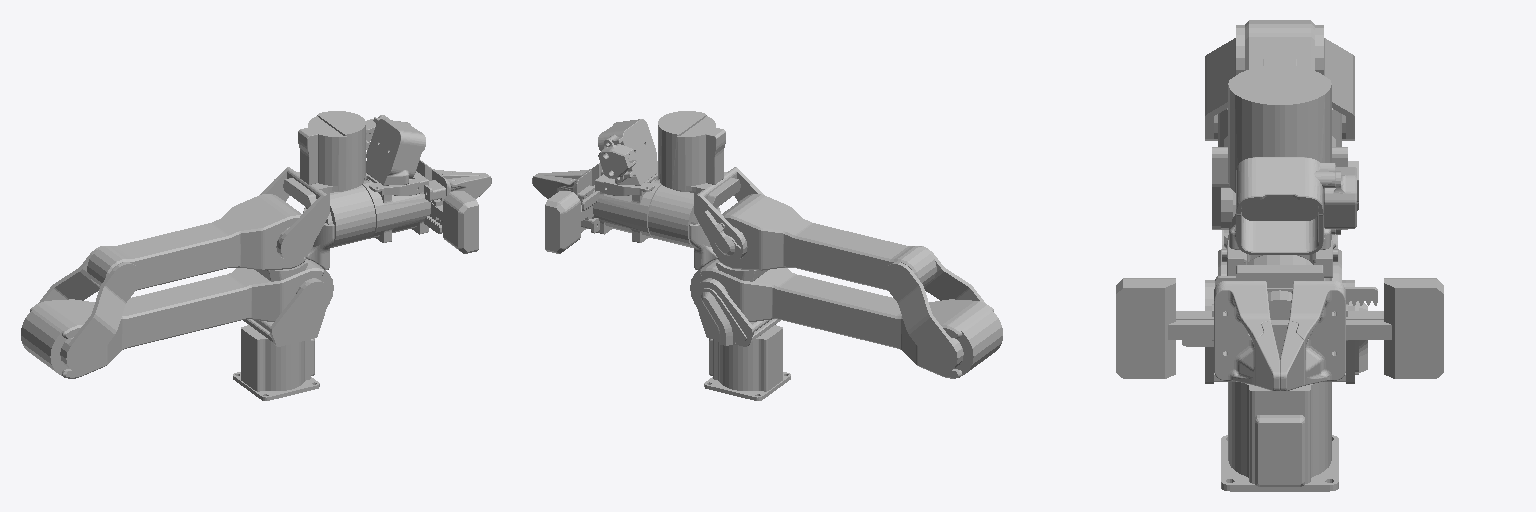
robot.urdf — wxai:
<?xml version="1.0" ?>
<robot name="wxai">
  <link name="base_link">
    <inertial>
      <origin rpy="0 0 0" xyz="-0.00014175 -0.00005228 0.03175177"/>
      <mass value="0.45969858"/>
      <inertia ixx="0.00041660" ixy="0.00000011" ixz="-0.00000454" iyy="0.00044896" iyz="-0.00000078" izz="0.00021403"/>
    </inertial>
    <visual>
      <origin rpy="0 0 0" xyz="0 0 0"/>
      <geometry>
        <mesh filename="meshes/base_link.stl"/>
      </geometry>
      <material name="">
        <color rgba="0.752941176470588 0.752941176470588 0.752941176470588 1"/>
      </material>
    </visual>
    <collision>
      <origin rpy="0 0 0" xyz="0 0 0"/>
      <geometry>
        <mesh filename="meshes/base_link.stl"/>
      </geometry>
    </collision>
  </link>
  <link name="link_1">
    <inertial>
      <origin rpy="0 0 0" xyz="-0.00011075 0.00171176 0.02044592"/>
      <mass value="0.15270428"/>
      <inertia ixx="0.00018509" ixy="-0.00000191" ixz="-0.00001436" iyy="0.00008358" iyz="-0.00000130" izz="0.00019219"/>
    </inertial>
    <visual>
      <origin rpy="0 0 0" xyz="0 0 0"/>
      <geometry>
        <mesh filename="meshes/link_1.stl"/>
      </geometry>
      <material name="">
        <color rgba="0.752941176470588 0.752941176470588 0.752941176470588 1"/>
      </material>
    </visual>
    <collision>
      <origin rpy="0 0 0" xyz="0 0 0"/>
      <geometry>
        <mesh filename="meshes/link_1.stl"/>
      </geometry>
    </collision>
  </link>
  <joint name="joint_0" type="revolute">
    <origin rpy="0 0 0" xyz="0 0 0.05725"/>
    <parent link="base_link"/>
    <child link="link_1"/>
    <axis xyz="0 0 1"/>
    <limit effort="27.0" lower="-3.0543261909900767" upper="3.0543261909900767" velocity="3.141592653589793"/>
  </joint>
  <link name="link_2">
    <inertial>
      <origin rpy="0 0 0" xyz="-0.13121451 -0.00292583 0.00021345"/>
      <mass value="1.15316319"/>
      <inertia ixx="0.00102632" ixy="-0.00000319" ixz="-0.00002679" iyy="0.01736118" iyz="-0.00000193" izz="0.01794489"/>
    </inertial>
    <visual>
      <origin rpy="0 0 0" xyz="0 0 0"/>
      <geometry>
        <mesh filename="meshes/link_2.stl"/>
      </geometry>
      <material name="">
        <color rgba="0.752941176470588 0.752941176470588 0.752941176470588 1"/>
      </material>
    </visual>
    <collision>
      <origin rpy="0 0 0" xyz="0 0 0"/>
      <geometry>
        <mesh filename="meshes/link_2.stl"/>
      </geometry>
    </collision>
  </link>
  <joint name="joint_1" type="revolute">
    <origin rpy="0 0 0" xyz="0.02 0 0.04625"/>
    <parent link="link_1"/>
    <child link="link_2"/>
    <axis xyz="0 1 0"/>
    <limit effort="27.0" lower="0.0" upper="3.141592653589793" velocity="3.141592653589793"/>
  </joint>
  <link name="link_3">
    <inertial>
      <origin rpy="0 0 0" xyz="0.18083602 -0.00094090 0.05554937"/>
      <mass value="0.68666638"/>
      <inertia ixx="0.00064876" ixy="0.00009128" ixz="-0.00052002" iyy="0.00547407" iyz="0.00001159" izz="0.00561509"/>
    </inertial>
    <visual>
      <origin rpy="0 0 0" xyz="0 0 0"/>
      <geometry>
        <mesh filename="meshes/link_3.stl"/>
      </geometry>
      <material name="">
        <color rgba="0.752941176470588 0.752941176470588 0.752941176470588 1"/>
      </material>
    </visual>
    <collision>
      <origin rpy="0 0 0" xyz="0 0 0"/>
      <geometry>
        <mesh filename="meshes/link_3.stl"/>
      </geometry>
    </collision>
  </link>
  <joint name="joint_2" type="revolute">
    <origin rpy="0 0 0" xyz="-0.264 0 0"/>
    <parent link="link_2"/>
    <child link="link_3"/>
    <axis xyz="0 -1 0"/>
    <limit effort="27.0" lower="-3.141592653589793" upper="2.356194490192345" velocity="3.141592653589793"/>
  </joint>
  <link name="link_4">
    <inertial>
      <origin rpy="0 0 0" xyz="0.05797842 0.00027145 0.05884447"/>
      <mass value="0.45789905"/>
      <inertia ixx="0.00053839" ixy="0.00000690" ixz="-0.00018164" iyy="0.00066138" iyz="0.00000724" izz="0.00042116"/>
    </inertial>
    <visual>
      <origin rpy="0 0 0" xyz="0 0 0"/>
      <geometry>
        <mesh filename="meshes/link_4.stl"/>
      </geometry>
      <material name="">
        <color rgba="0.752941176470588 0.752941176470588 0.752941176470588 1"/>
      </material>
    </visual>
    <collision>
      <origin rpy="0 0 0" xyz="0 0 0"/>
      <geometry>
        <mesh filename="meshes/link_4.stl"/>
      </geometry>
    </collision>
  </link>
  <joint name="joint_3" type="revolute">
    <origin rpy="0 0 0" xyz="0.245 0 0.06"/>
    <parent link="link_3"/>
    <child link="link_4"/>
    <axis xyz="0 -1 0"/>
    <limit effort="7.0" lower="-1.5707963267948966" upper="1.5707963267948966" velocity="3.141592653589793"/>
  </joint>
  <link name="link_5">
    <inertial>
      <origin rpy="0 0 0" xyz="0.00412447 -0.00001138 -0.04283184"/>
      <mass value="0.36693910"/>
      <inertia ixx="0.00018912" ixy="-0.00000045" ixz="0.00000090" iyy="0.00032062" iyz="0.00000003" izz="0.00026750"/>
    </inertial>
    <visual>
      <origin rpy="0 0 0" xyz="0 0 0"/>
      <geometry>
        <mesh filename="meshes/link_5.stl"/>
      </geometry>
      <material name="">
        <color rgba="0.752941176470588 0.752941176470588 0.752941176470588 1"/>
      </material>
    </visual>
    <collision>
      <origin rpy="0 0 0" xyz="0 0 0"/>
      <geometry>
        <mesh filename="meshes/link_5.stl"/>
      </geometry>
    </collision>
  </link>
  <joint name="joint_4" type="revolute">
    <origin rpy="0 0 0" xyz="0.06775 0 0.0455"/>
    <parent link="link_4"/>
    <child link="link_5"/>
    <axis xyz="0 0 -1"/>
    <limit effort="7.0" lower="-1.5707963267948966" upper="1.5707963267948966" velocity="3.141592653589793"/>
  </joint>
  <link name="link_6">
    <inertial>
      <origin rpy="0 0 0" xyz="0.04572768 -0.00000726 0.00001402"/>
      <mass value="0.55469347"/>
      <inertia ixx="0.00082429" ixy="-0.00000051" ixz="0.00000010" iyy="0.00048759" iyz="0.00000004" izz="0.00108600"/>
    </inertial>
    <visual>
      <origin rpy="0 0 0" xyz="0 0 0"/>
      <geometry>
        <mesh filename="meshes/link_6.stl"/>
      </geometry>
      <material name="">
        <color rgba="0.752941176470588 0.752941176470588 0.752941176470588 1"/>
      </material>
    </visual>
    <collision>
      <origin rpy="0 0 0" xyz="0 0 0"/>
      <geometry>
        <mesh filename="meshes/link_6.stl"/>
      </geometry>
    </collision>
  </link>
  <joint name="joint_5" type="revolute">
    <origin rpy="0 0 0" xyz="0.02895 0 -0.0455"/>
    <parent link="link_5"/>
    <child link="link_6"/>
    <axis xyz="1 0 0"/>
    <limit effort="7.0" lower="-3.141592653589793" upper="3.141592653589793" velocity="3.141592653589793"/>
  </joint>
  <link name="carriage_right">
    <inertial>
      <origin rpy="0 0 0" xyz="0.00889602 0.00403514 0.00457901"/>
      <mass value="0.05036313"/>
      <inertia ixx="0.00001736" ixy="-0.00000165" ixz="-0.00000104" iyy="0.00000591" iyz="-0.00000172" izz="0.00001378"/>
    </inertial>
    <visual>
      <origin rpy="0 0 0" xyz="0 0 0"/>
      <geometry>
        <mesh filename="meshes/carriage_right.stl"/>
      </geometry>
      <material name="">
        <color rgba="0.752941176470588 0.752941176470588 0.752941176470588 1"/>
      </material>
    </visual>
    <collision>
      <origin rpy="0 0 0" xyz="0 0 0"/>
      <geometry>
        <mesh filename="meshes/carriage_right.stl"/>
      </geometry>
    </collision>
  </link>
  <joint name="right_carriage_joint" type="prismatic">
    <origin rpy="0 0 0" xyz="0.0745 -0.023 0"/>
    <parent link="link_6"/>
    <child link="carriage_right"/>
    <axis xyz="0 -1 0"/>
    <limit effort="400.0" lower="0.0" upper="0.044" velocity="0.0875"/>
  </joint>
  <link name="carriage_left">
    <inertial>
      <origin rpy="0 0 0" xyz="0.00889602 -0.00403515 -0.00457908"/>
      <mass value="0.05036313"/>
      <inertia ixx="0.00001736" ixy="-0.00000165" ixz="-0.00000104" iyy="0.00000591" iyz="-0.00000172" izz="0.00001378"/>
    </inertial>
    <visual>
      <origin rpy="0 0 0" xyz="0 0 0"/>
      <geometry>
        <mesh filename="meshes/carriage_left.stl"/>
      </geometry>
      <material name="">
        <color rgba="0.752941176470588 0.752941176470588 0.752941176470588 1"/>
      </material>
    </visual>
    <collision>
      <origin rpy="0 0 0" xyz="0 0 0"/>
      <geometry>
        <mesh filename="meshes/carriage_left.stl"/>
      </geometry>
    </collision>
  </link>
  <joint name="left_carriage_joint" type="prismatic">
    <origin rpy="0 0 0" xyz="0.0745 0.023 0"/>
    <parent link="link_6"/>
    <child link="carriage_left"/>
    <axis xyz="0 1 0"/>
    <limit effort="400.0" lower="0.0" upper="0.044" velocity="0.0875"/>
  </joint>
  <link name="camera_mount_d405">
    <inertial>
      <origin rpy="0 0 0" xyz="0.03023383 0.00679835 0.05006687"/>
      <mass value="0.04518012"/>
      <inertia ixx="0.00003426" ixy="-0.00000027" ixz="-0.00000309" iyy="0.00001980" iyz="-0.00000319" izz="0.00002470"/>
    </inertial>
    <visual>
      <origin rpy="0 0 0" xyz="0 0 0"/>
      <geometry>
        <mesh filename="meshes/camera_mount_d405.stl"/>
      </geometry>
      <material name="">
        <color rgba="0.752941176470588 0.752941176470588 0.752941176470588 1"/>
      </material>
    </visual>
    <collision>
      <origin rpy="0 0 0" xyz="0 0 0"/>
      <geometry>
        <mesh filename="meshes/camera_mount_d405.stl"/>
      </geometry>
    </collision>
  </link>
  <joint name="cam_mount_joint" type="fixed">
    <origin rpy="0 0 0" xyz="0 0 0"/>
    <parent link="link_6"/>
    <child link="camera_mount_d405"/>
    <axis xyz="0 0 0"/>
  </joint>
  <joint name="cam_joint" type="fixed">
    <origin rpy="0 0.3490658503988659 0" xyz="0.02927207801 0 0.03824951197"/>
    <parent link="camera_mount_d405"/>
    <child link="cam_bottom_screw_frame"/>
  </joint>
  <link name="cam_bottom_screw_frame"/>
  <joint name="cam_link_joint" type="fixed">
    <origin rpy="0 0 0" xyz="0.01085 0.009 0.021"/>
    <parent link="cam_bottom_screw_frame"/>
    <child link="cam_link"/>
  </joint>
  <link name="cam_link">
    <visual>
      <origin rpy="1.5707963267948966 0 1.5707963267948966" xyz="0.0038 -0.009 0"/>
      <geometry>
        <mesh filename="package://trossen_arm_description/meshes/peripherals/d405.stl" scale="0.001 0.001 0.001"/>
      </geometry>
      <material name="aluminum">
        <color rgba="0.5 0.5 0.5 1"/>
      </material>
    </visual>
    <collision>
      <origin rpy="0 0 0" xyz="-0.0078 -0.009 0"/>
      <geometry>
        <box size="0.023 0.042 0.042"/>
      </geometry>
    </collision>
    <inertial>
      <mass value="0.072"/>
      <origin xyz="0 0 0"/>
      <inertia ixx="0.00002117" ixy="0.0" ixz="0.0" iyy="0.000013758" iyz="0.0" izz="0.000013758"/>
    </inertial>
  </link>
  <link name="gripper_left">
    <inertial>
      <origin rpy="0 0 0" xyz="0.01893993 -0.00901223 -0.00215453"/>
      <mass value="0.03090787"/>
      <inertia ixx="0.00000769" ixy="0.00000321" ixz="0.00000029" iyy="0.00001487" iyz="-0.00000020" izz="0.00001184"/>
    </inertial>
    <visual>
      <origin rpy="0 0 0" xyz="0 0 0"/>
      <geometry>
        <mesh filename="meshes/gripper_left.stl"/>
      </geometry>
      <material name="">
        <color rgba="0.752941176470588 0.752941176470588 0.752941176470588 1"/>
      </material>
    </visual>
    <collision>
      <origin rpy="0 0 0" xyz="0 0 0"/>
      <geometry>
        <mesh filename="meshes/gripper_left.stl"/>
      </geometry>
    </collision>
  </link>
  <joint name="left_gripper_joint" type="fixed">
    <origin rpy="0 0 0" xyz="0 0 0"/>
    <parent link="carriage_left"/>
    <child link="gripper_left"/>
    <axis xyz="0 0 0"/>
  </joint>
  <link name="gripper_right">
    <inertial>
      <origin rpy="0 0 0" xyz="0.01893989 0.00901216 -0.00215461"/>
      <mass value="0.03090786"/>
      <inertia ixx="0.00000769" ixy="-0.00000321" ixz="0.00000029" iyy="0.00001487" iyz="0.00000020" izz="0.00001184"/>
    </inertial>
    <visual>
      <origin rpy="0 0 0" xyz="0 0 0"/>
      <geometry>
        <mesh filename="meshes/gripper_right.stl"/>
      </geometry>
      <material name="">
        <color rgba="0.752941176470588 0.752941176470588 0.752941176470588 1"/>
      </material>
    </visual>
    <collision>
      <origin rpy="0 0 0" xyz="0 0 0"/>
      <geometry>
        <mesh filename="meshes/gripper_right.stl"/>
      </geometry>
    </collision>
  </link>
  <joint name="right_gripper_joint" type="fixed">
    <origin rpy="0 0 0" xyz="0 0 0"/>
    <parent link="carriage_right"/>
    <child link="gripper_right"/>
    <axis xyz="0 0 0"/>
  </joint>
</robot>

--- Facts derived from the render (not from the file) ---
Views: 3 orthographic renders of the robot side by side, from view 1: azimuth 30°, elevation 25°; view 2: azimuth 150°, elevation 25°; view 3: azimuth 270°, elevation 25°.
Robot: wxai — 14 links, 13 joints (6 revolute, 2 prismatic, 5 fixed); root link base_link; default pose: all joints at 0.
Visible links, largest first — view 1: link_3, link_2, link_4, link_6, base_link, camera_mount_d405, link_5, link_1, gripper_right; view 2: link_3, link_2, link_4, link_6, base_link, camera_mount_d405, link_5, link_1, gripper_left; view 3: link_6, camera_mount_d405, base_link, link_4, link_3, gripper_left, gripper_right, link_1, link_2, carriage_right.
Boxes of the visible links, box(x1,y1,x2,y2) form: link_3: box(38, 194, 313, 371); link_2: box(21, 259, 333, 378); link_4: box(260, 111, 365, 261); link_6: box(362, 171, 478, 253); base_link: box(233, 325, 319, 400); camera_mount_d405: box(364, 115, 425, 195); link_5: box(303, 185, 375, 269); link_1: box(243, 280, 329, 346); gripper_right: box(432, 170, 491, 232); link_3: box(710, 194, 985, 371); link_2: box(690, 259, 1002, 378); link_4: box(658, 111, 763, 261); link_6: box(545, 174, 661, 253); base_link: box(704, 325, 790, 400); camera_mount_d405: box(598, 119, 659, 195); link_5: box(648, 185, 720, 269); link_1: box(694, 280, 780, 346); gripper_left: box(532, 170, 591, 232); link_6: box(1116, 255, 1443, 378); camera_mount_d405: box(1227, 157, 1356, 277); base_link: box(1221, 382, 1338, 491); link_4: box(1212, 59, 1358, 229); link_3: box(1205, 20, 1354, 248); gripper_left: box(1280, 281, 1345, 390); gripper_right: box(1214, 281, 1279, 390); link_1: box(1205, 280, 1367, 383); link_2: box(1214, 108, 1345, 288); carriage_right: box(1212, 276, 1377, 351).
Bounding box of the posed robot: 0.5143 × 0.1806 × 0.265 m (x, y, z).
Meshes: 13 distinct files referenced, 12 mesh visuals loaded (12 binary STL); not drawn: 1 (reference not matched to a file when rendering).